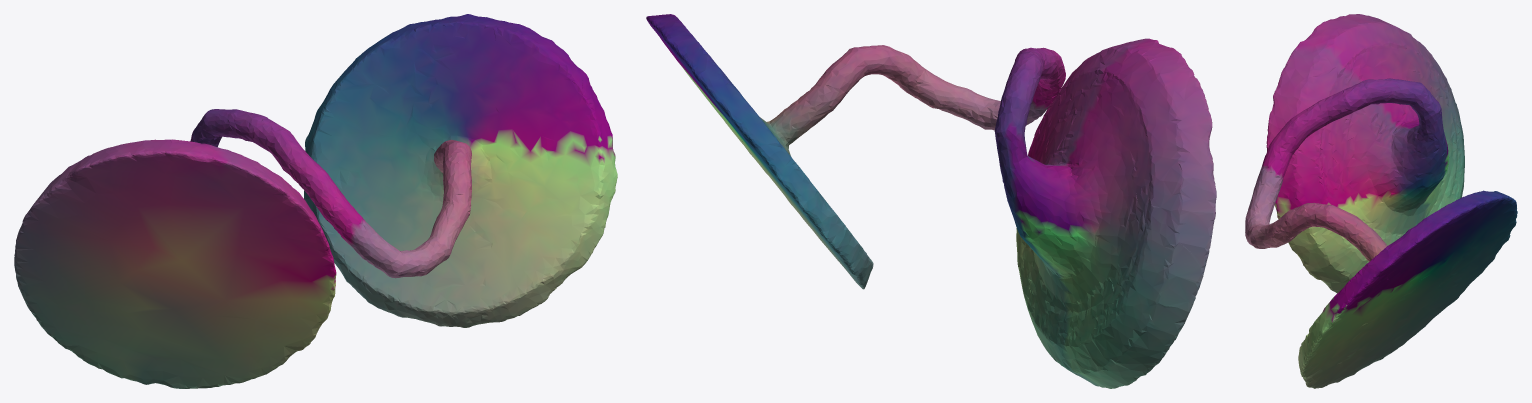
Rendered from lamp-10.off.obj.
The picture shows the model from 3 angles, left to right: view 1: azimuth 30°, elevation 25°; view 2: azimuth 150°, elevation 25°; view 3: azimuth 270°, elevation 25°; orthographic projection. The views are drawn at different scales.
Size of the model in its own units: 1.75 by 0.8577 by 0.8555.
